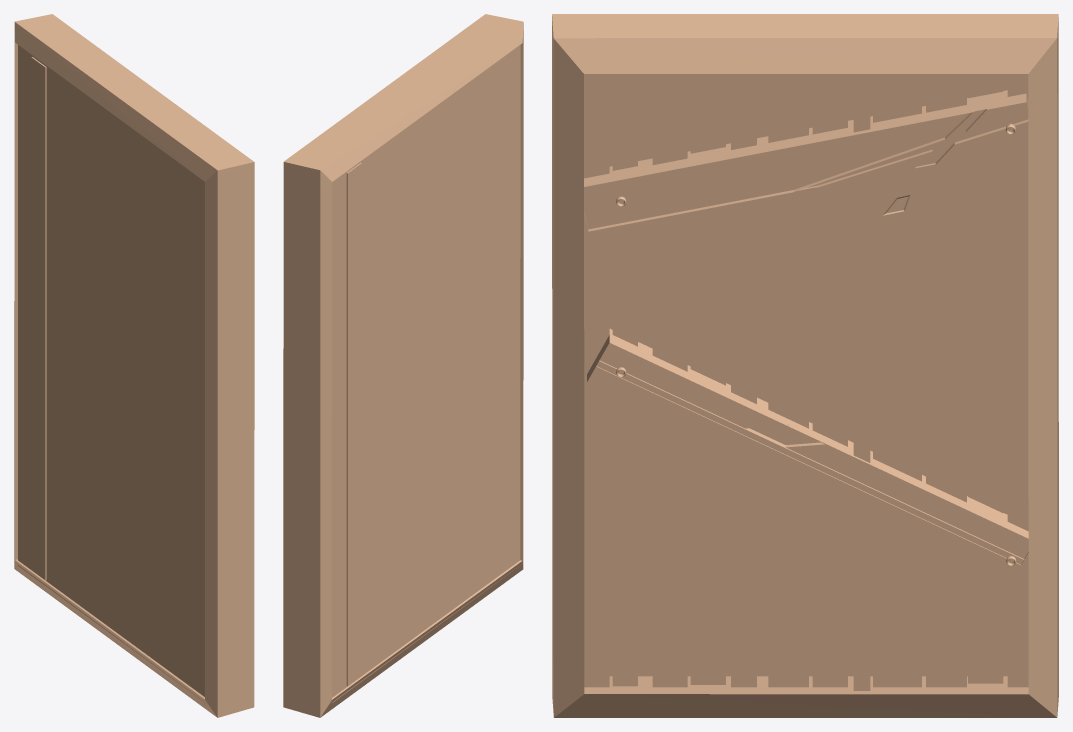
The model's file is Wall_IMP.fbx.
The picture shows the model from 3 angles, left to right: view 1: azimuth 30°, elevation 25°; view 2: azimuth 150°, elevation 25°; view 3: azimuth 270°, elevation 25°; orthographic projection. The views are drawn at different scales.
Visible parts, largest first — view 1: Объект_Куб_15; view 2: Объект_Куб_15; view 3: Объект_Куб_15.
Part boxes in pixels (x1=…): Объект_Куб_15: x1=14, y1=14, x2=254, y2=717; Объект_Куб_15: x1=283, y1=14, x2=523, y2=717; Объект_Куб_15: x1=552, y1=14, x2=1058, y2=717.
Size of the model in its own units: 21.84 by 214 by 144.
